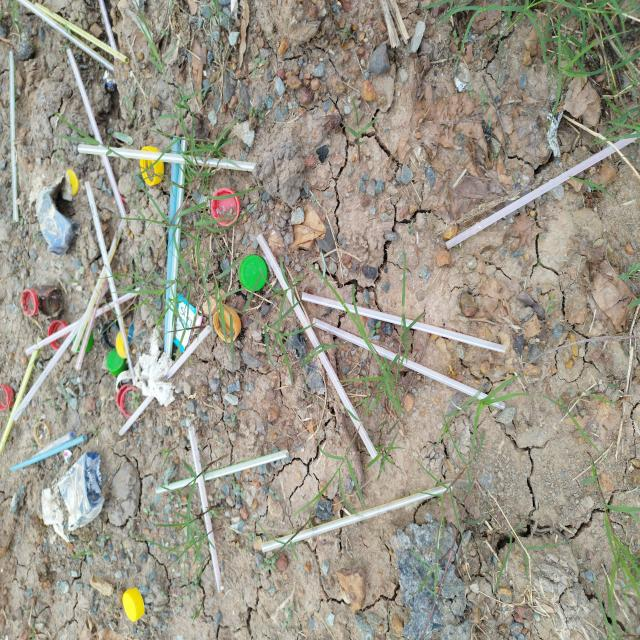drinking straw: (255, 233, 378, 460), (446, 131, 640, 249), (313, 315, 506, 411), (261, 483, 452, 554), (302, 292, 505, 354), (85, 181, 137, 386), (118, 324, 211, 436), (66, 48, 127, 218), (12, 310, 86, 422), (25, 286, 141, 356), (71, 218, 127, 354), (16, 0, 114, 72), (155, 449, 290, 494), (35, 2, 129, 63), (189, 426, 223, 594), (165, 137, 188, 361), (0, 336, 43, 454), (78, 144, 257, 172), (163, 136, 181, 353), (74, 276, 107, 372), (9, 434, 88, 472), (8, 50, 20, 223)
